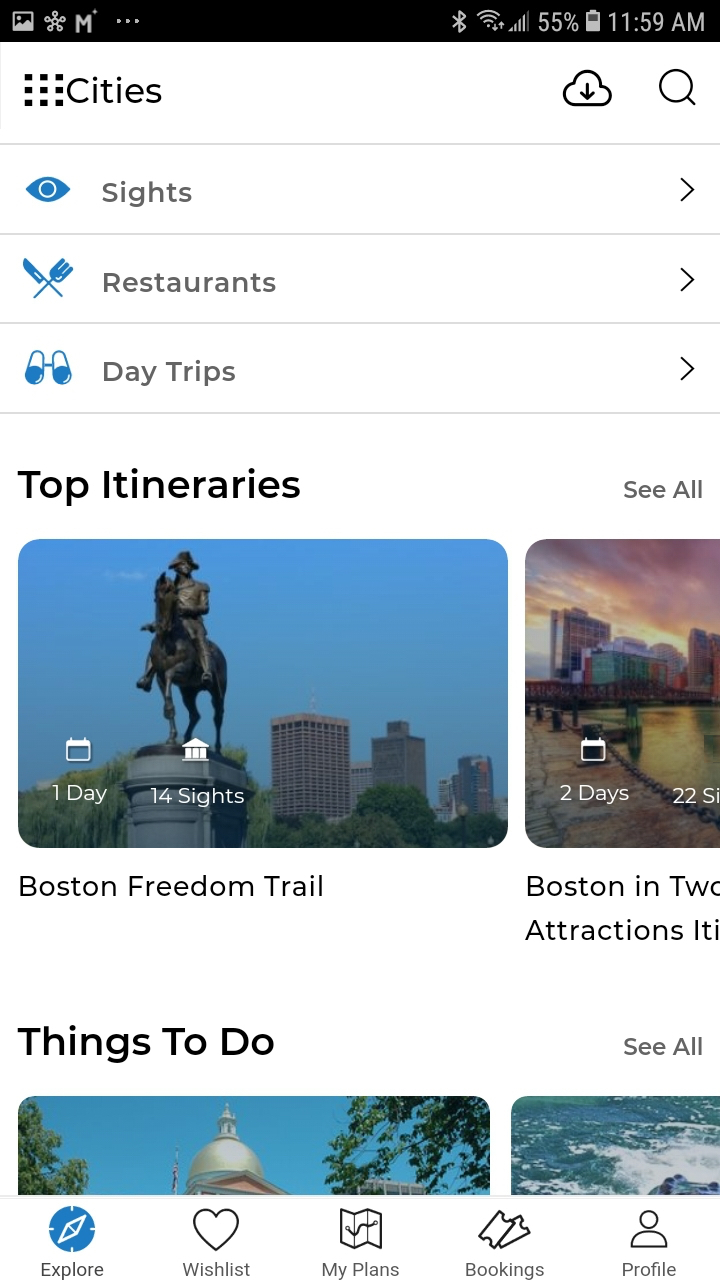BackgroundImage: (525, 539, 720, 849)
Icon: (478, 1210, 531, 1250), (50, 1206, 96, 1252), (193, 1208, 240, 1251), (562, 70, 613, 108), (340, 1208, 383, 1249), (630, 1210, 668, 1249), (658, 69, 696, 107), (25, 74, 65, 108), (26, 176, 72, 203), (66, 737, 93, 762), (580, 737, 606, 762), (183, 738, 210, 761), (680, 268, 695, 293), (680, 178, 695, 203), (680, 357, 695, 381)
Image: (18, 539, 509, 849), (18, 1095, 490, 1195), (512, 1096, 720, 1195), (23, 257, 75, 299), (25, 350, 73, 386)
Text: (525, 876, 720, 941), (18, 467, 301, 507), (18, 1025, 275, 1064), (20, 875, 323, 898), (104, 273, 277, 294), (104, 360, 236, 387), (67, 77, 163, 105), (102, 182, 193, 209), (152, 786, 245, 808), (624, 479, 703, 499), (465, 1261, 544, 1280), (322, 1261, 400, 1280), (625, 1037, 702, 1056), (560, 785, 629, 805), (42, 1261, 104, 1280), (53, 784, 108, 805), (183, 1261, 251, 1276), (622, 1262, 676, 1277), (673, 787, 720, 804)
UpperTaskBar: (1, 1, 720, 43)
